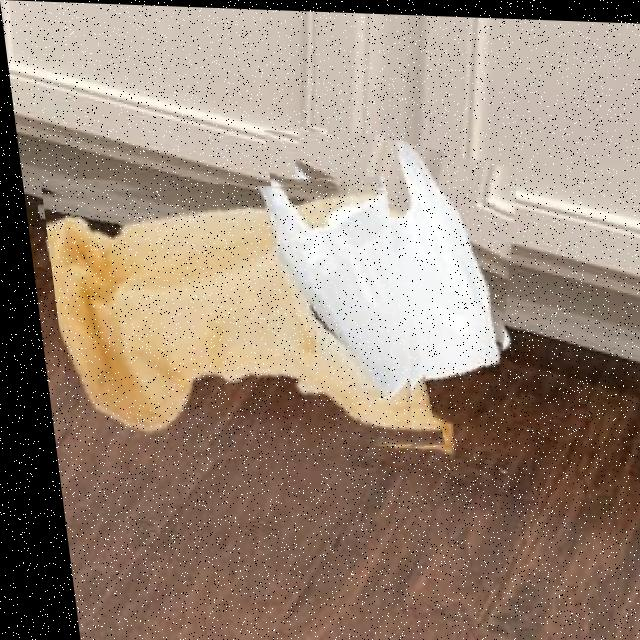litter: (36, 178, 429, 469), (261, 128, 528, 424)
